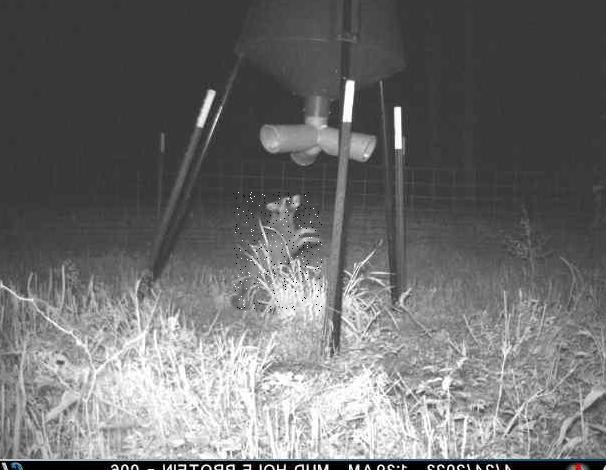Raccoon: (232, 193, 322, 315)
